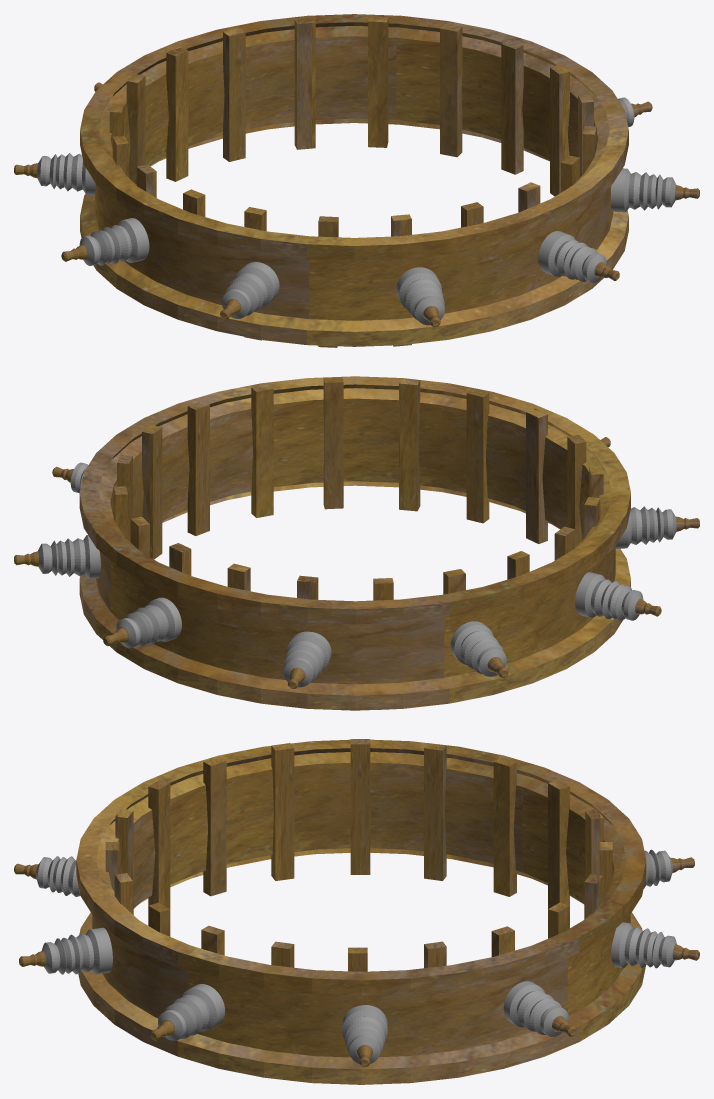
The model's file is bikkjebelte.FBX.
3 views of the same model, one above another, from view 1: azimuth 30°, elevation 25°; view 2: azimuth 150°, elevation 25°; view 3: azimuth 270°, elevation 25° (orthographic). The views are drawn at different scales.
Visible parts, largest first — view 1: Cylinder001, Box020, Box009, Box001, Box012, Box011, Box010, Cylinder017, Cylinder020, Cylinder021, Box019, Cylinder018 (+10 smaller); view 2: Cylinder001, Box018, Box008, Box006, Box017, Box007, Box016, Box019, Cylinder017, Cylinder024, Cylinder023, Cylinder016 (+11 smaller); view 3: Cylinder001, Box013, Box004, Box003, Box015, Box014, Cylinder020, Box002, Cylinder021, Box005, Cylinder024, Cylinder023 (+14 smaller).
Boxes of the visible parts, x1,y1,x2,y2 form: Cylinder001: (80, 14, 628, 346); Box020: (440, 23, 462, 157); Box009: (501, 40, 523, 174); Box001: (223, 28, 245, 161); Box012: (166, 47, 188, 181); Box011: (294, 17, 315, 149); Box010: (368, 16, 388, 147); Cylinder017: (79, 218, 149, 265); Cylinder020: (538, 231, 606, 282); Cylinder021: (610, 168, 676, 212); Box019: (550, 64, 569, 196); Cylinder018: (221, 262, 279, 318); Cylinder001: (79, 376, 630, 710); Box018: (251, 384, 273, 517); Box008: (187, 401, 209, 535); Box006: (466, 389, 489, 523); Box017: (399, 378, 420, 511); Box007: (323, 377, 343, 509); Box016: (526, 408, 547, 543); Box019: (142, 425, 162, 559); Cylinder017: (575, 572, 643, 620); Cylinder024: (116, 597, 181, 648); Cylinder023: (38, 535, 100, 578); Cylinder016: (450, 621, 506, 676); Cylinder001: (76, 739, 646, 1084); Box013: (493, 757, 516, 896); Box004: (271, 743, 294, 880); Box003: (424, 743, 446, 880); Box015: (203, 757, 226, 896); Box014: (350, 739, 370, 874); Cylinder020: (41, 927, 112, 974); Box002: (548, 780, 569, 908); Cylinder021: (158, 984, 224, 1040); Box005: (148, 780, 170, 908); Cylinder024: (611, 922, 676, 968); Cylinder023: (503, 981, 568, 1036).
Bounding box in the file's own units: 101 × 20.44 × 97.42.
2 materials, 1 textured.
